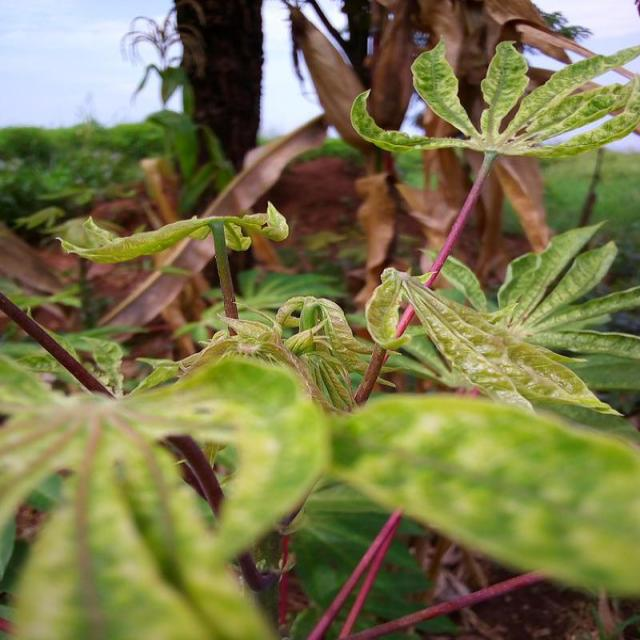cassava leaf: (325, 390, 638, 600), (349, 36, 638, 159), (53, 200, 290, 264)
